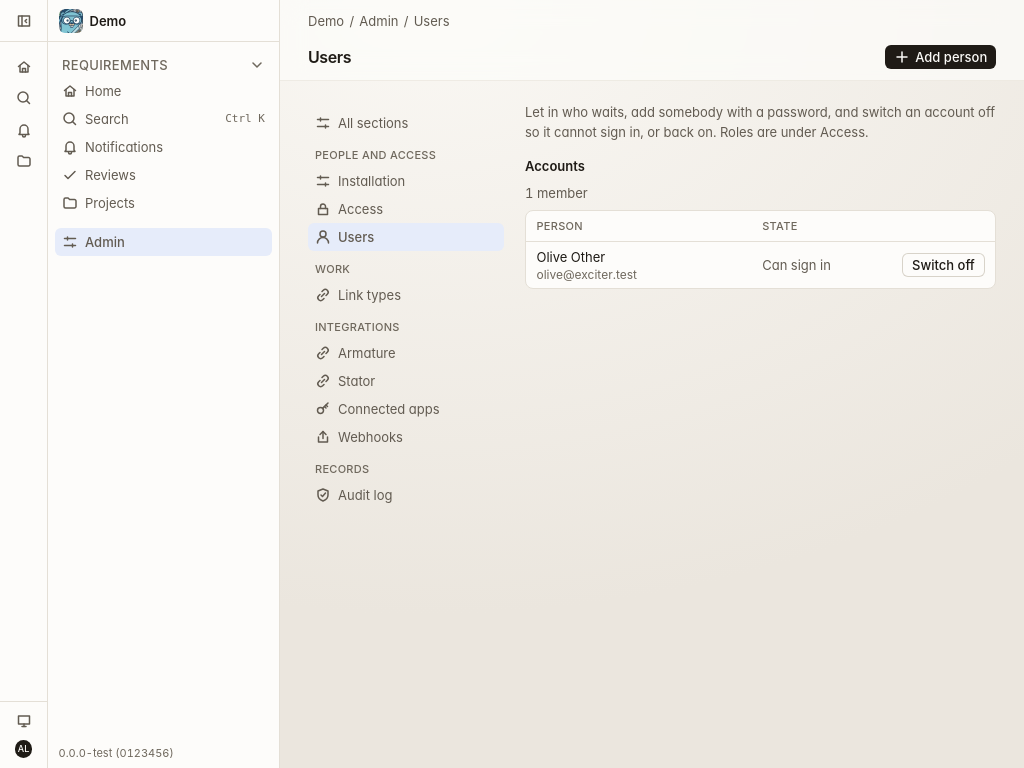
Test: adding a person with a password › sends what was typed and shows a made password once, with a way to copy it
The image size is (1024, 768).
Step 1. Click the button "Add person" → x=941, y=57, box [885, 44, 996, 69]
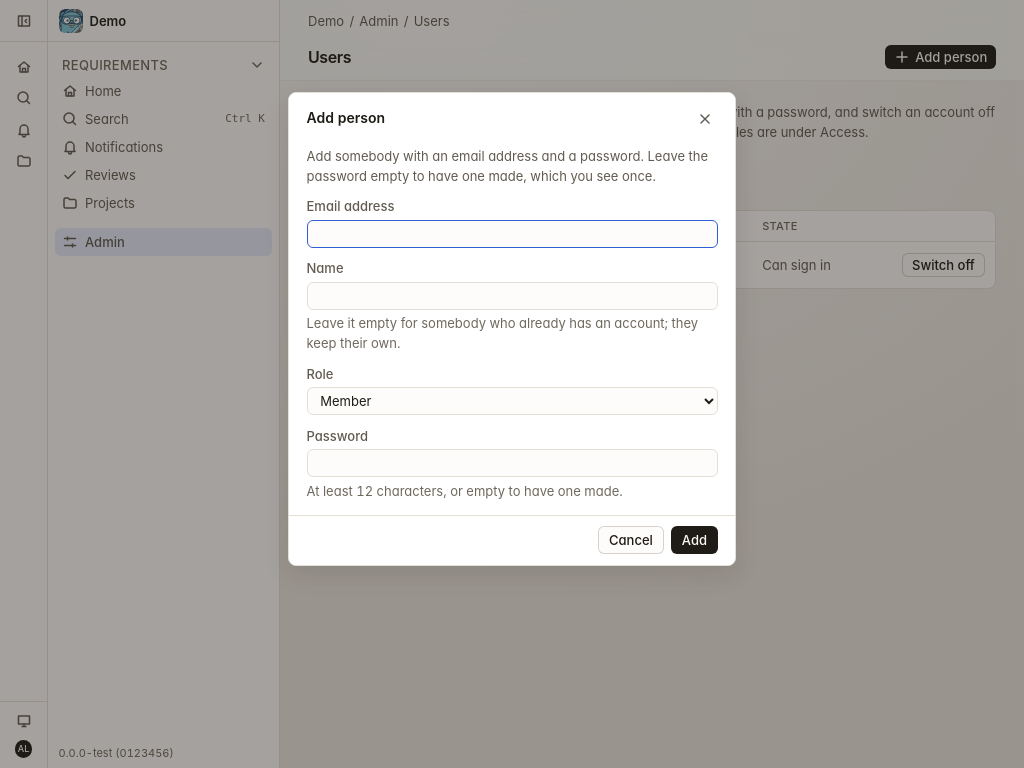
Step 2. Type " ada@exciter.test " into the field labelled "Email address" → x=512, y=234, box [306, 220, 718, 248]
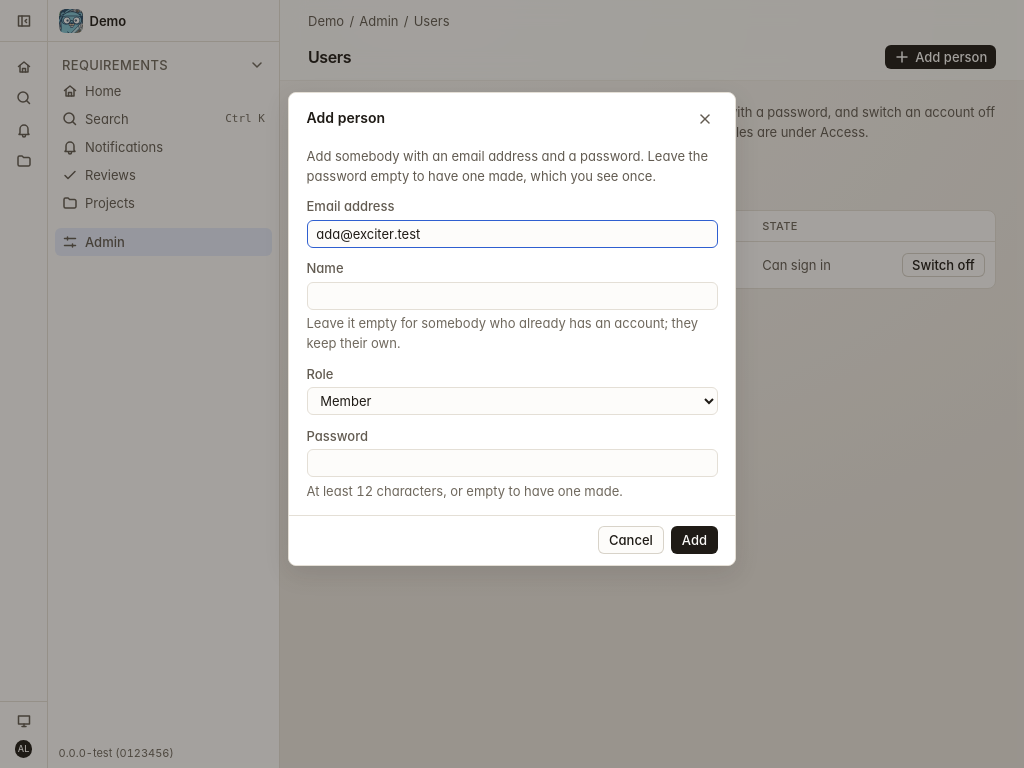
Step 3. Type "Ada" into the field labelled "Name" → x=512, y=296, box [306, 282, 718, 310]
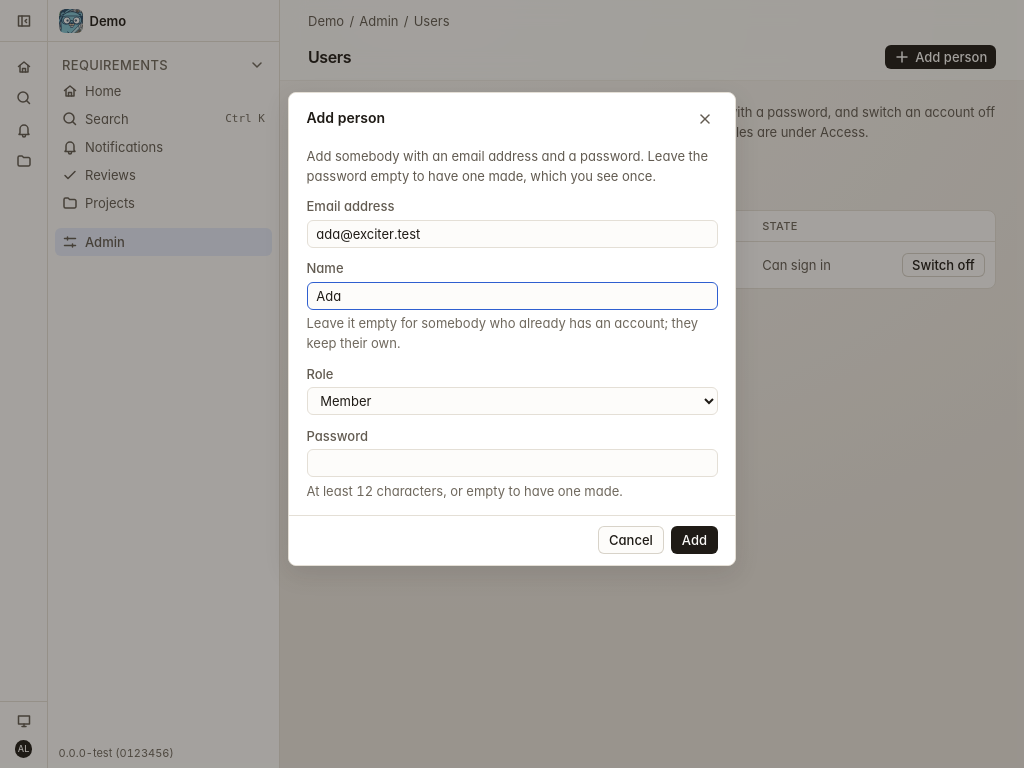
Step 4. Click the button "Add" → x=694, y=540, box [671, 526, 718, 554]
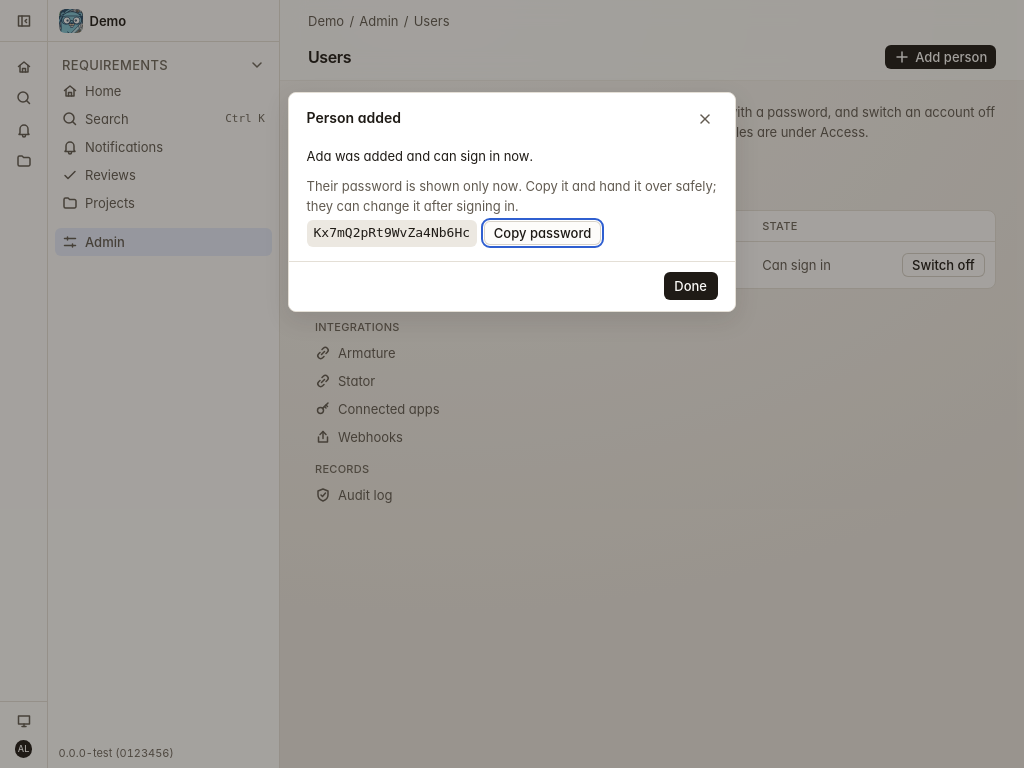
Check: the text "Ada was added and can sign in now." is shown, box [306, 148, 533, 164]
Check: the text "Kx7mQ2pRt9WvZa4Nb6Hc" is shown, box [306, 220, 477, 247]
Check: the text "shown only now" is shown, box [306, 178, 716, 214]
Step 5. Click the button "Done" → x=691, y=286, box [664, 272, 718, 300]
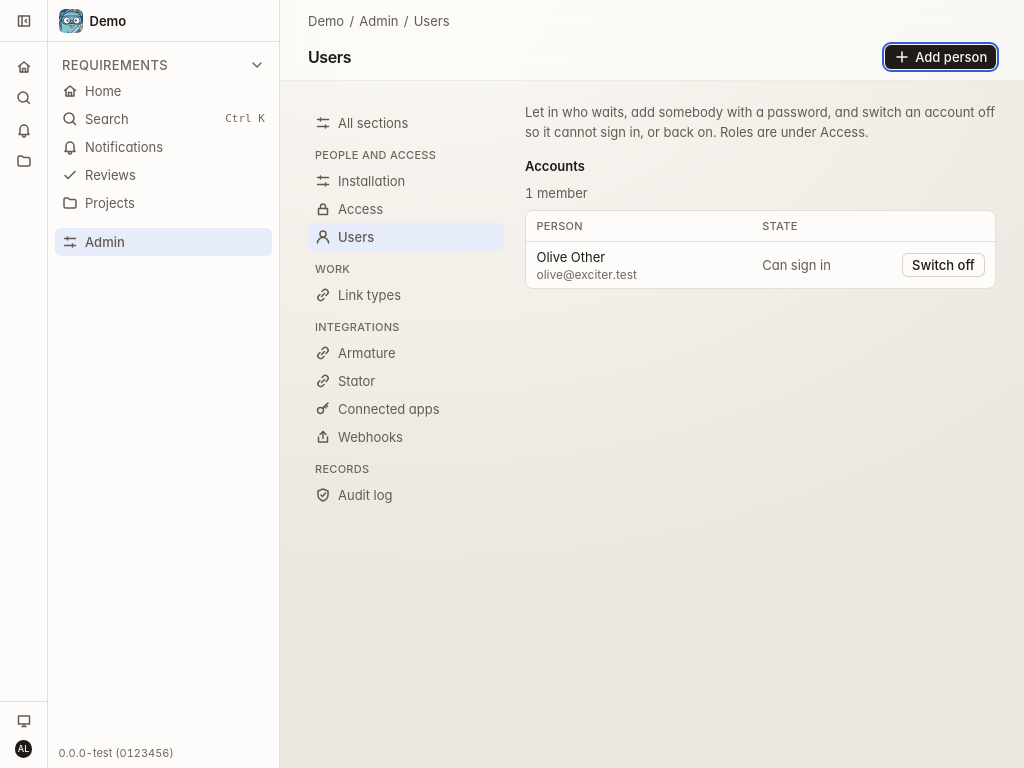
Check: the dialog is gone
